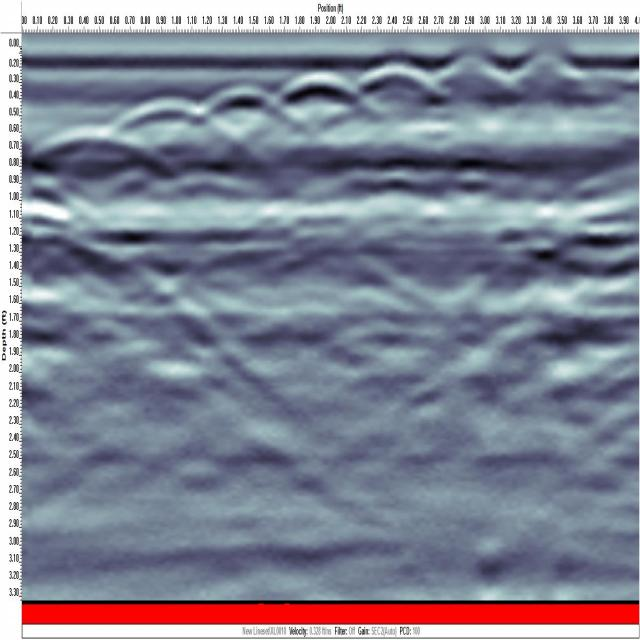hyperbola: (36, 112, 162, 178), (103, 86, 224, 146), (350, 49, 448, 119), (190, 72, 296, 136), (272, 59, 373, 125)
